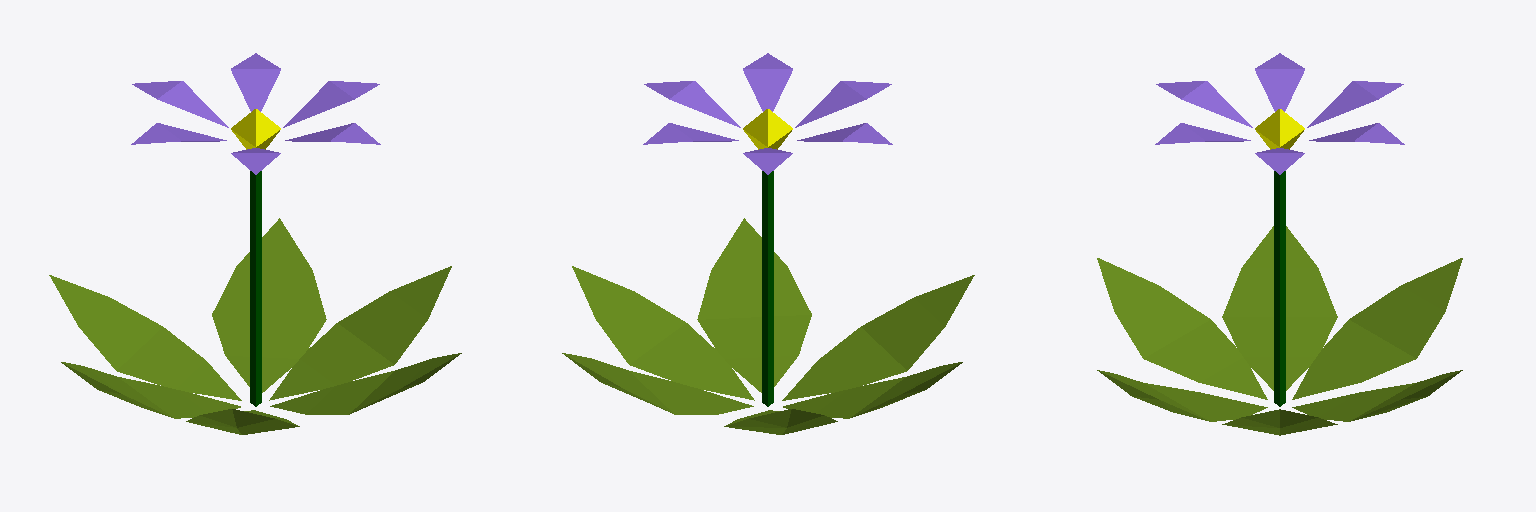
3 views of the same model, side by side, from view 1: azimuth 30°, elevation 25°; view 2: azimuth 150°, elevation 25°; view 3: azimuth 270°, elevation 25° (orthographic).
Visible parts, largest first — view 1: hepatica_0001; view 2: hepatica_0001; view 3: hepatica_0001.
Boxes of the visible parts, x1,y1,x2,y2 form: hepatica_0001: [49, 53, 461, 434]; hepatica_0001: [562, 53, 974, 434]; hepatica_0001: [1097, 53, 1462, 435].
Size of the model in its own units: 3.06 by 2.2 by 2.48.
1 materials, 1 textured.